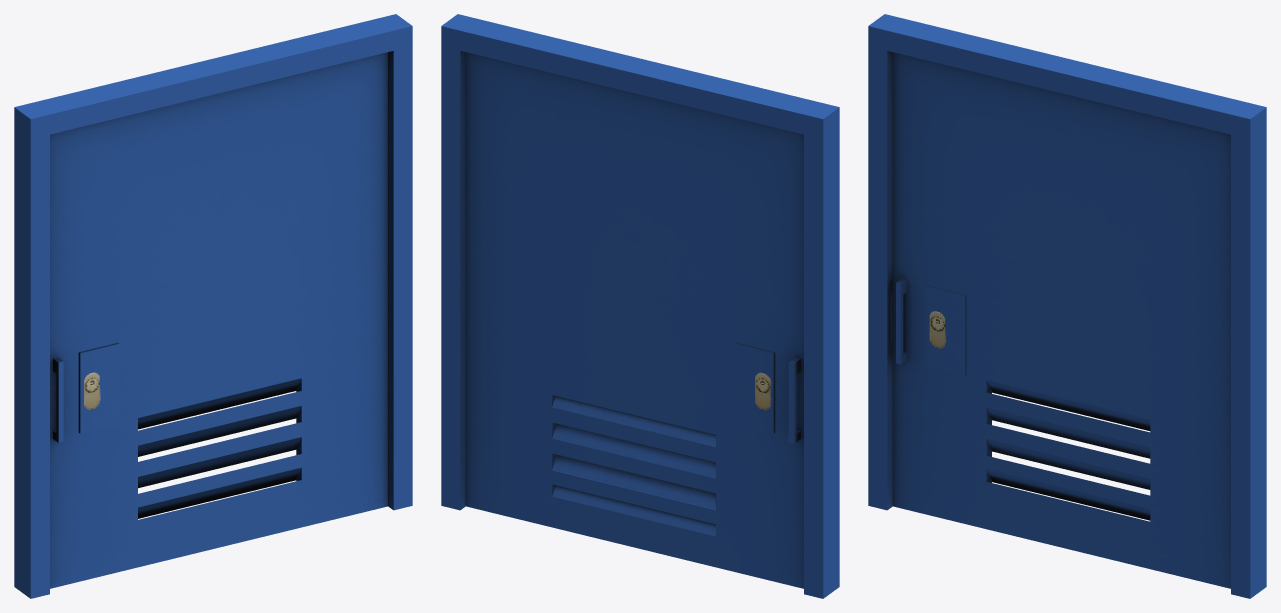
The model's file is Puerta bano.FBX.
3 renders of one model, left to right at view 1: azimuth 30°, elevation 25°; view 2: azimuth 150°, elevation 25°; view 3: azimuth 330°, elevation 25°, orthographic.
Parts seen in each view (by area): view 1: doorBath, Puerta_Banos; view 2: doorBath, Puerta_Banos; view 3: doorBath, Puerta_Banos.
Part boxes in pixels (<box>): doorBath: <box>50,52,387,588</box>; Puerta_Banos: <box>14,14,412,598</box>; doorBath: <box>466,52,803,588</box>; Puerta_Banos: <box>441,14,839,598</box>; doorBath: <box>893,52,1230,588</box>; Puerta_Banos: <box>868,14,1266,598</box>.
Bounding box in the file's own units: 200 × 240 × 16.48.
1 material, 1 textured.
